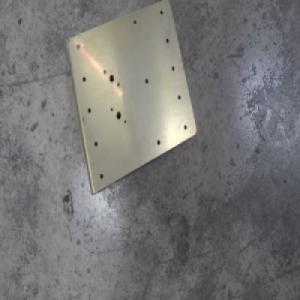MetalSheet: (63, 0, 198, 199)
